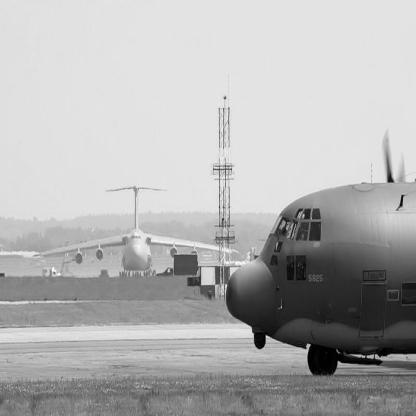C130: (227, 128, 416, 377)
C5: (34, 186, 241, 278)
